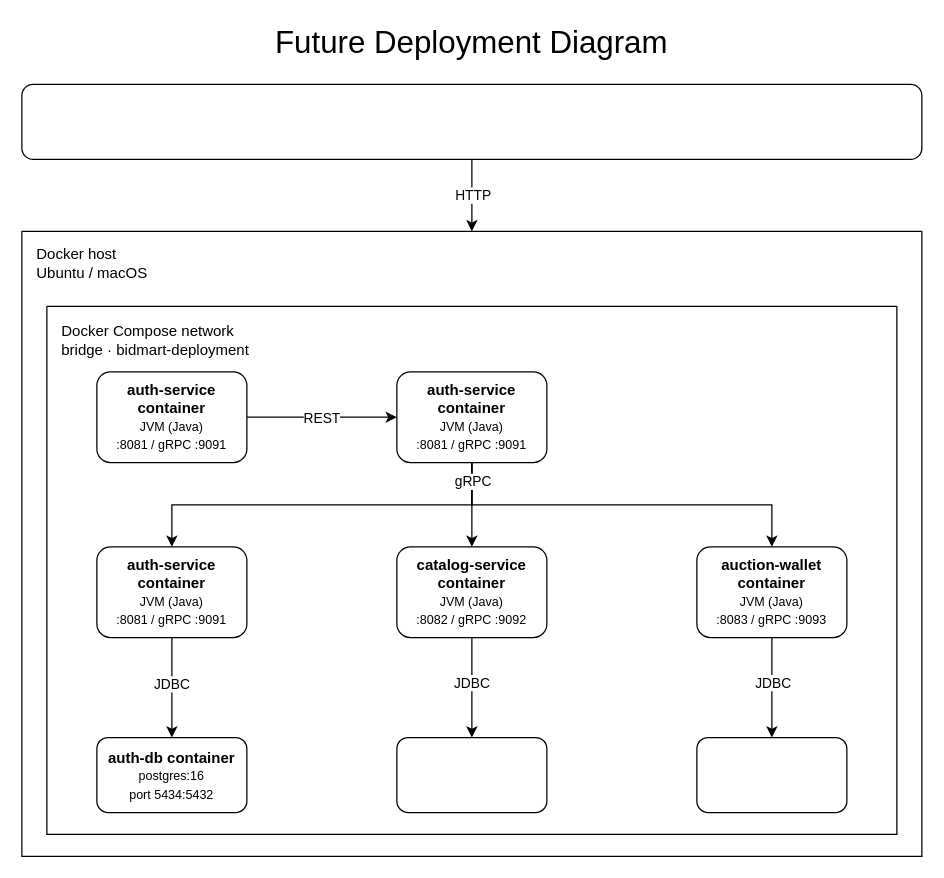
Image size: 944x878. Some labels were removed from this diagram. The shapes that lost their labels are listed below. From the top down, each one's centre as x and y in pixels, then its label:
At pixel 471 121: "User Browser localhost:5173 (frontend) · localhost:8080 (API)".
At pixel 471 774: "catalog-db postgres:16 port 5435:5432".
At pixel 771 774: "auction-wallet-db postgres:16 port 5436:5432".
